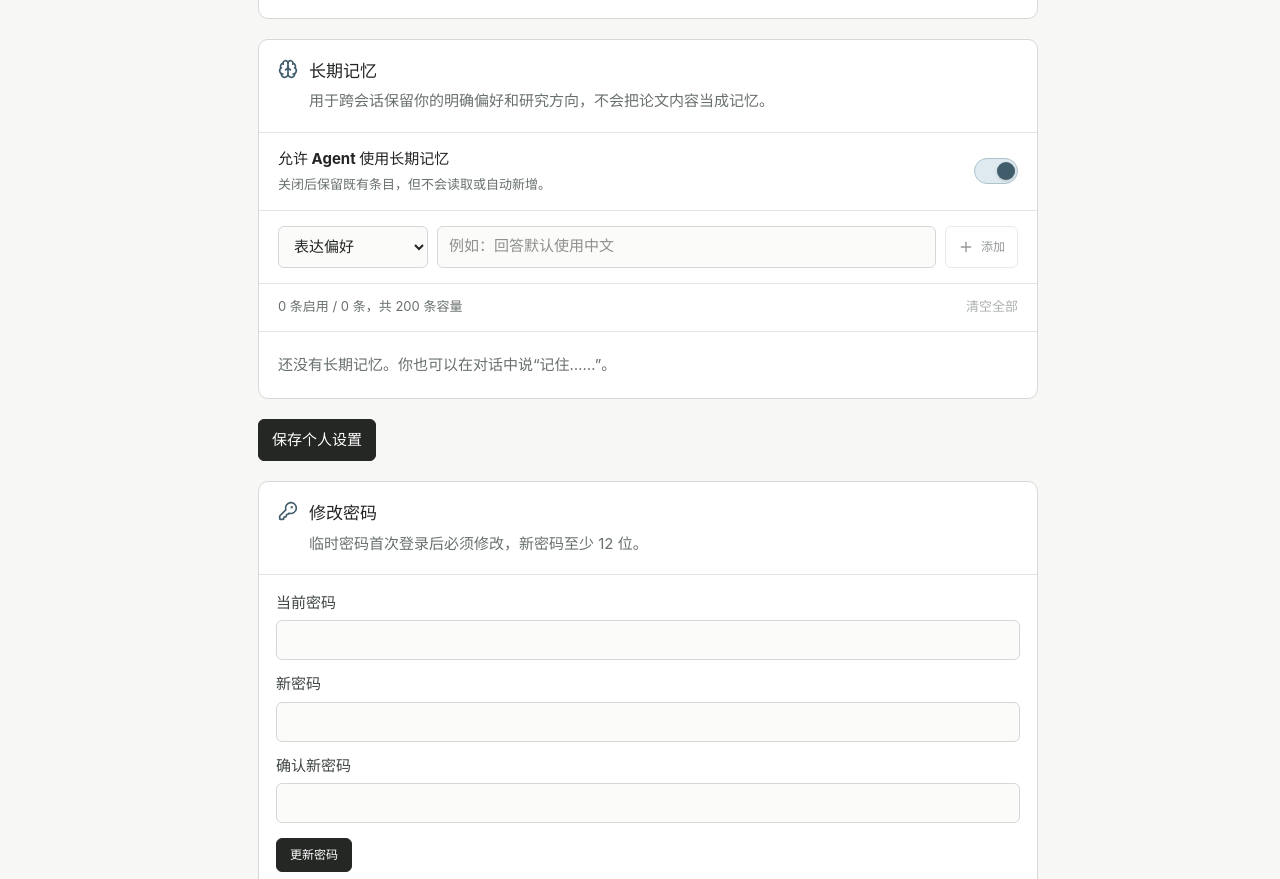
SettingsView 真实偏好 › 展示服务端返回的具体保存失败原因
The image size is (1280, 879).
(page scrolled)
Click the button "保存个人设置" at (317, 440), box 258,419 -> 376,461
(page scrolled)
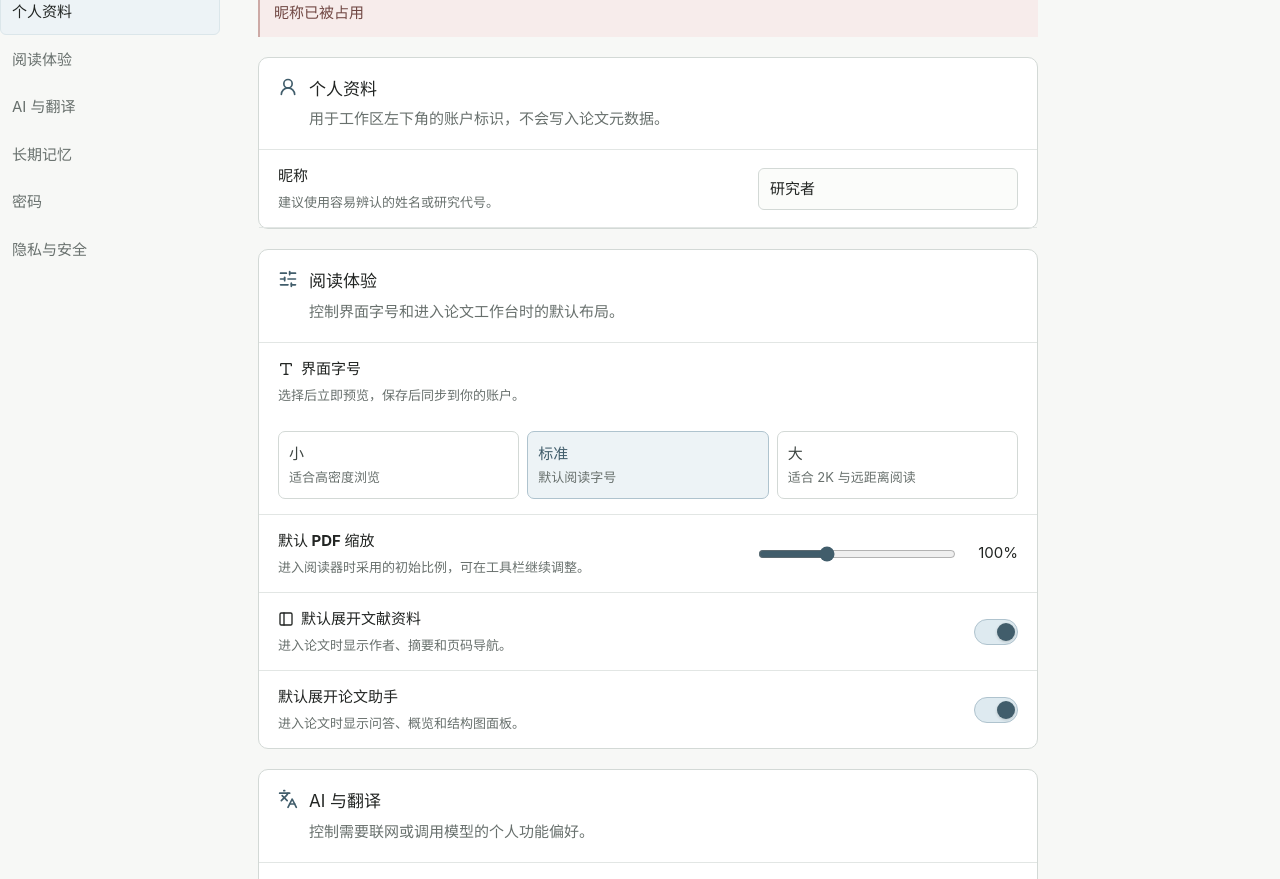
Check: the message reads "昵称已被占用", box 274,3 -> 364,22
